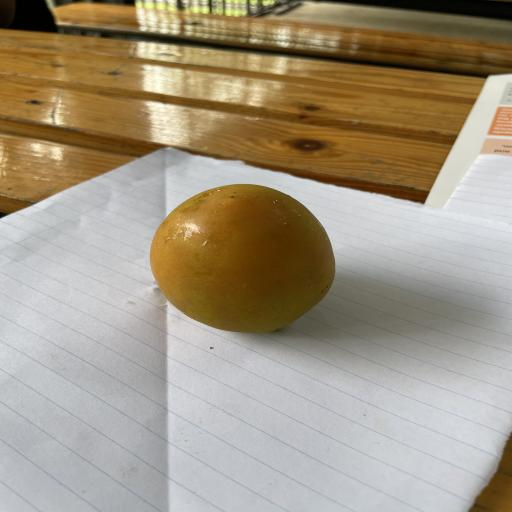unripe: (151, 184, 335, 333)
